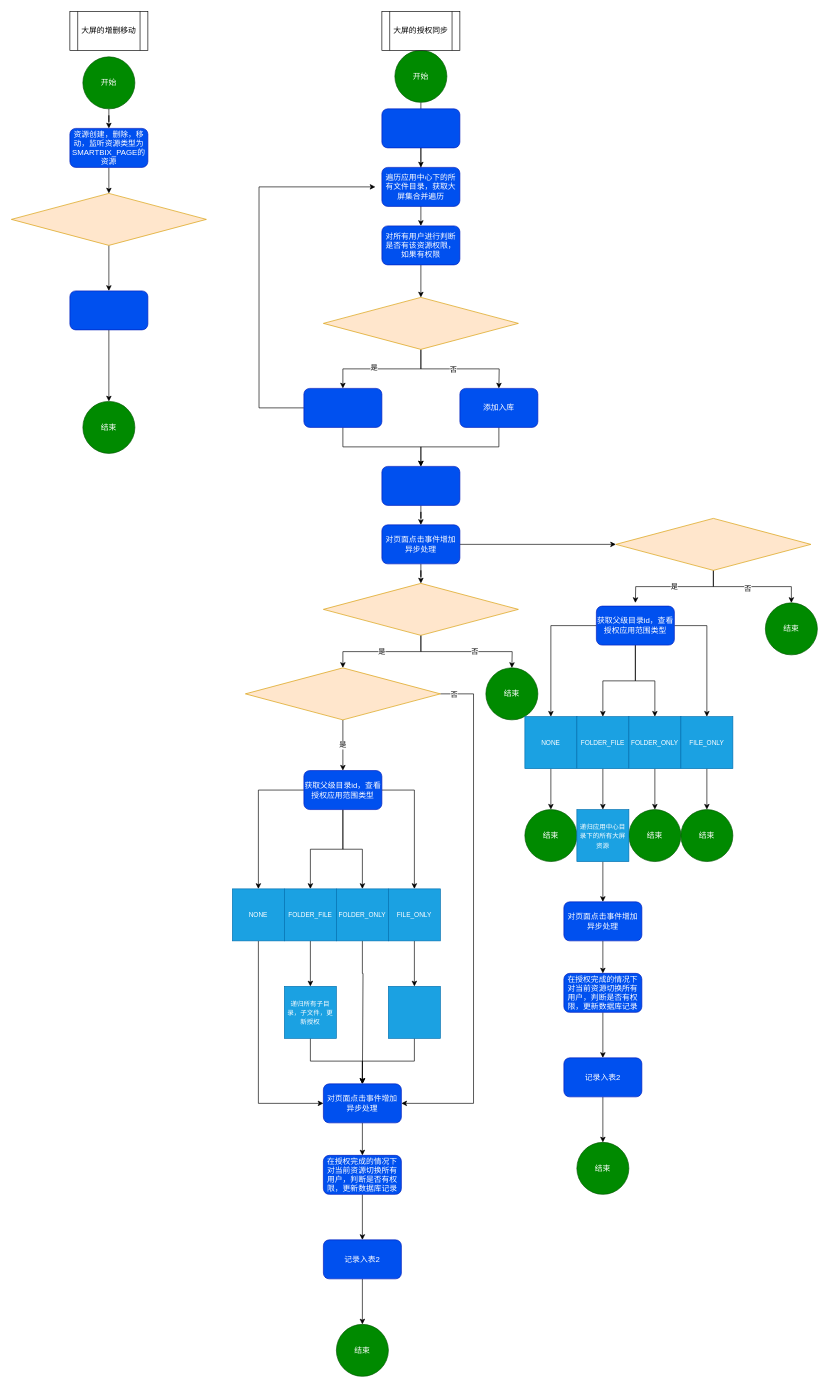
Some shapes in this 829 by 1388 pixel diagram are drawn without their labels. Here are the shapes that lost their labels. From the top down, the centre of each, then its label:
At (x=420, y=128): "每日初始化".
At (x=108, y=219): "判读父级目录是否是应用中心id，父级 的父级目录是否为公共空间".
At (x=108, y=310): "删除或新增表1数据".
At (x=420, y=323): "判断是否已经记录入库".
At (x=342, y=407): "遍历下一个".
At (x=420, y=485): "实时同步".
At (x=713, y=544): "递归判断当前资源所有子目录是否 有id为应用中心id的".
At (x=420, y=609): "递归判断当前资源所有父级目录是否 有id为应用中心id的".
At (x=342, y=693): "资源是否为目录".
At (x=414, y=1012): "递归更新所有该目录子文件，更新授权".
